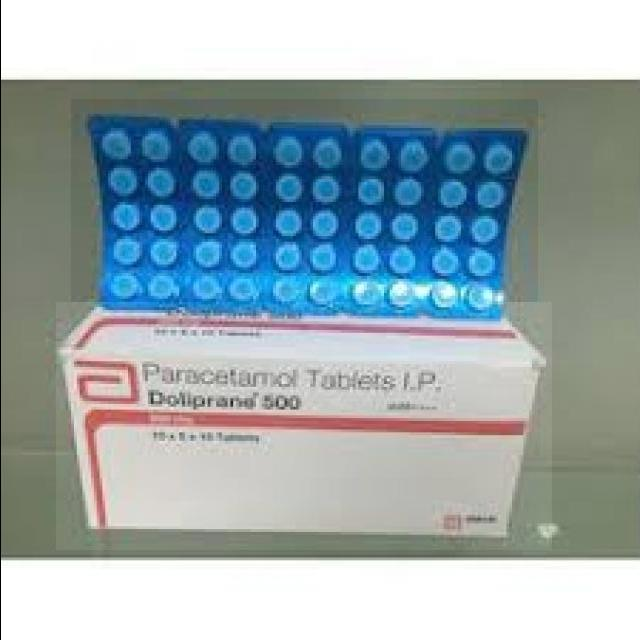authentic: (56, 302, 552, 550), (71, 99, 538, 320)
